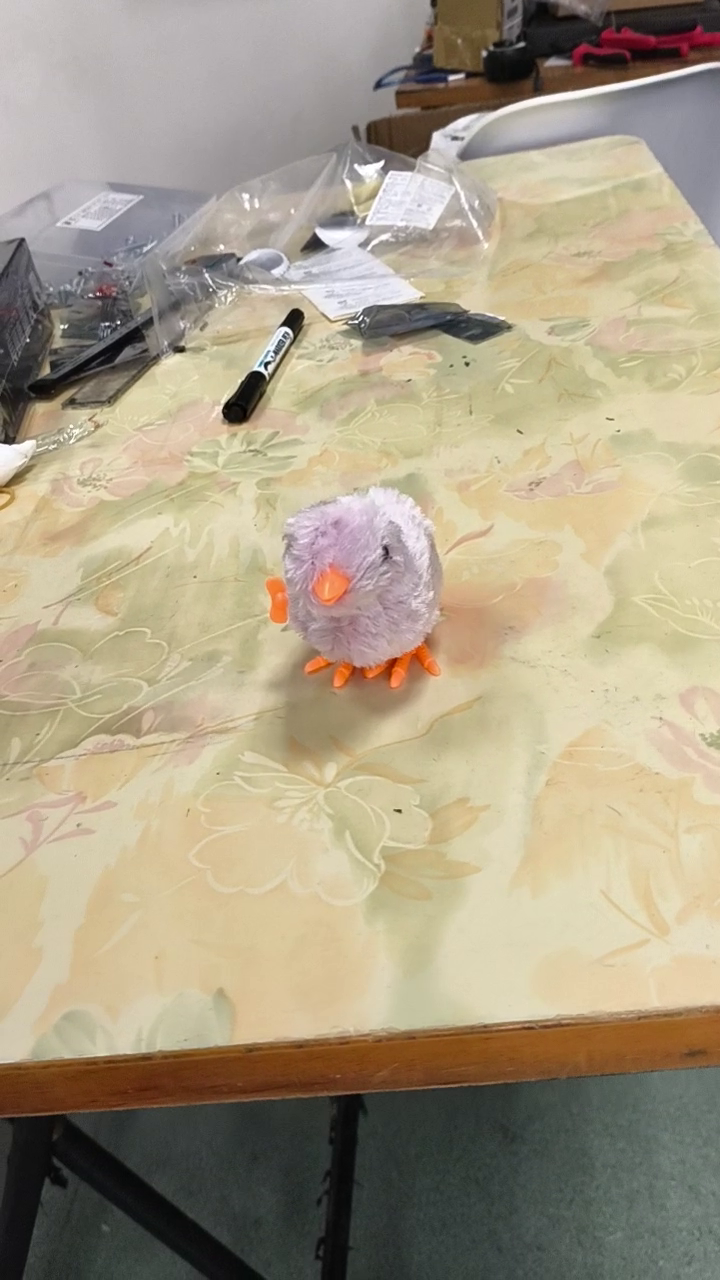pink chicken: (260, 482, 450, 693)
